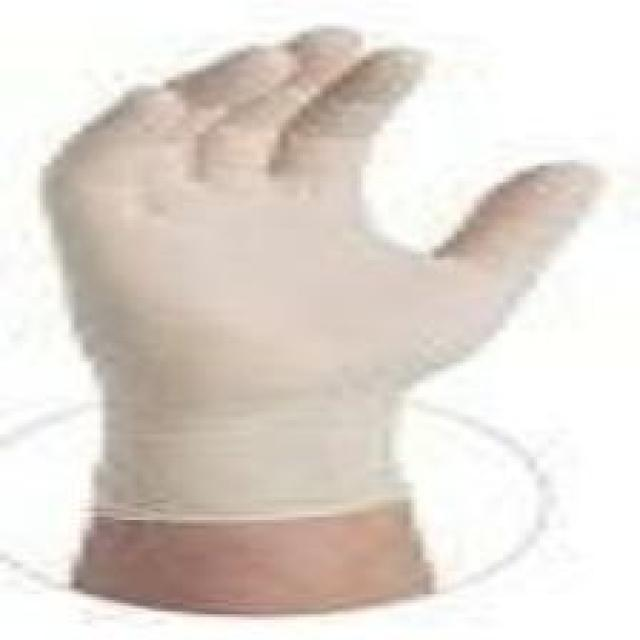Glove: (22, 0, 603, 640)
